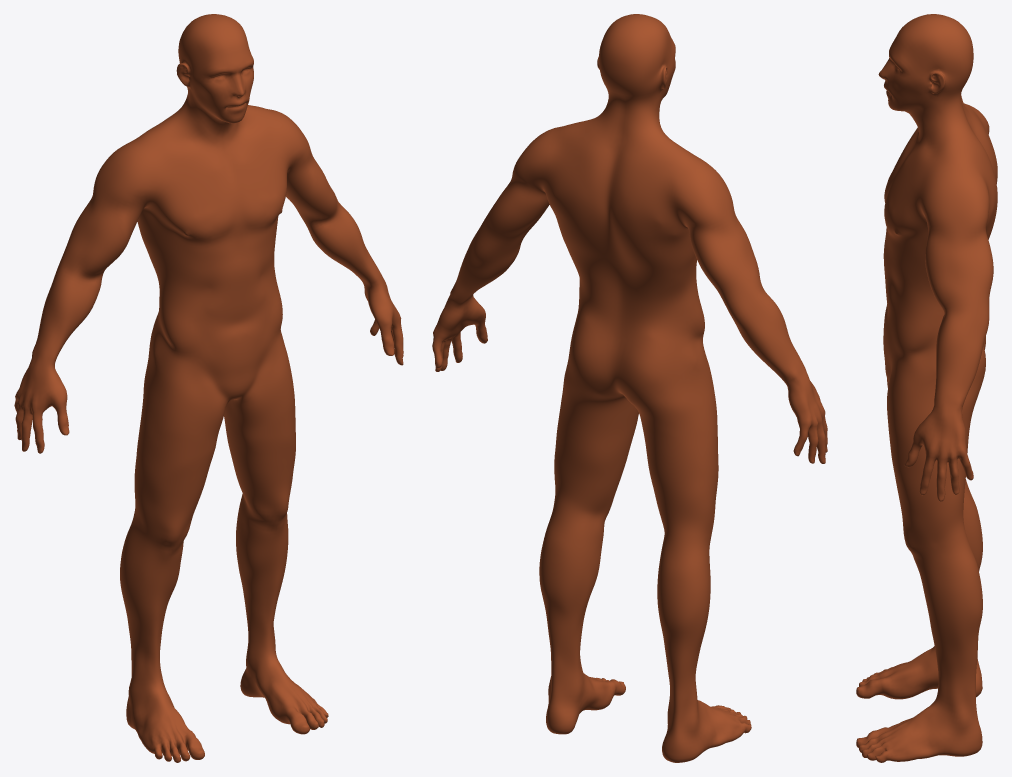
The model's file is body.obj.
3 renders of one model, left to right at view 1: azimuth 30°, elevation 25°; view 2: azimuth 150°, elevation 25°; view 3: azimuth 270°, elevation 25°, orthographic.
Parts seen in each view (by area): view 1: Group1; view 2: Group1; view 3: Group1.
Part boxes in pixels (x1,y1,x2,y2): Group1: (14,14,403,762); Group1: (432,14,827,762); Group1: (856,14,997,762).
Bounding box in the file's own units: 11.69 × 20.74 × 3.77.
